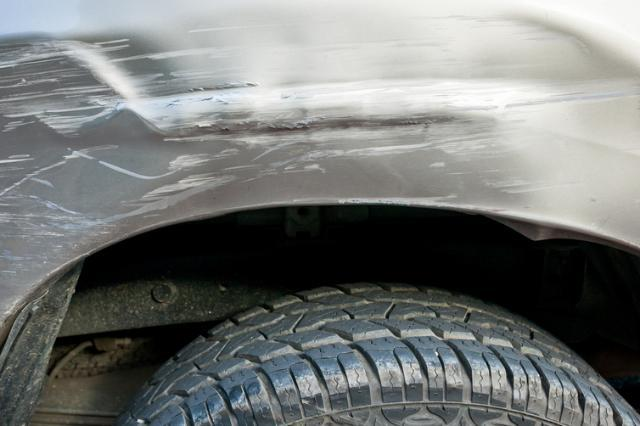Fender: (0, 0, 640, 244)
